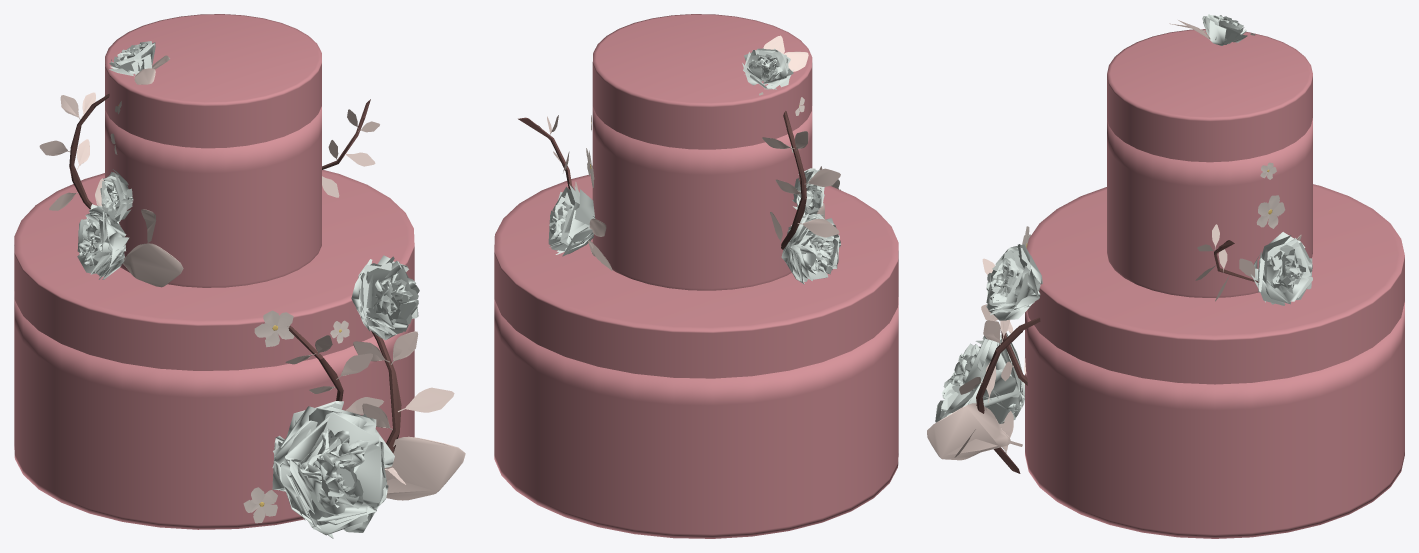
File: 2-tier-blush-roses-none.glb
3 views of the same model, side by side, from view 1: azimuth 30°, elevation 25°; view 2: azimuth 150°, elevation 25°; view 3: azimuth 270°, elevation 25° (orthographic). The views are drawn at different scales.
Parts seen in each view (by area): view 1: Cylinder.023, Cylinder.013, grid.025, grid.024, Plane.049, Plane.059, grid.026, Plane.056, Plane.058, Plane.052, Plane.045, grid.027 (+3 smaller); view 2: Cylinder.023, Cylinder.013, grid.026, Plane.056, grid.028, grid.014, grid.027, Plane.045; view 3: Cylinder.023, Cylinder.013, grid.025, grid.028, Plane.049, grid.024, Plane.059, Plane.045, grid.014, Plane.058, Sphere.032.
Boxes of the visible parts, <box> form: Cylinder.023: <box>14,170,414,529</box>; Cylinder.013: <box>105,14,321,287</box>; grid.025: <box>272,401,394,538</box>; grid.024: <box>351,255,419,340</box>; Plane.049: <box>384,436,465,500</box>; Plane.059: <box>353,331,454,484</box>; grid.026: <box>77,204,129,279</box>; Plane.056: <box>39,92,109,210</box>; Plane.058: <box>285,325,383,414</box>; Plane.052: <box>122,243,183,287</box>; Plane.045: <box>322,99,379,197</box>; grid.027: <box>100,169,133,223</box>; Cylinder.023: <box>494,174,898,538</box>; Cylinder.013: <box>592,14,812,290</box>; grid.026: <box>781,213,841,284</box>; Plane.056: <box>762,111,840,249</box>; grid.028: <box>548,184,595,256</box>; grid.014: <box>742,48,793,89</box>; grid.027: <box>792,168,824,219</box>; Plane.045: <box>518,115,578,190</box>; Cylinder.023: <box>1025,184,1404,538</box>; Cylinder.013: <box>1107,29,1312,297</box>; grid.025: <box>935,328,1024,423</box>; grid.028: <box>1251,232,1312,305</box>; Plane.049: <box>927,403,1022,460</box>; grid.024: <box>986,244,1042,320</box>; Plane.059: <box>954,317,1040,473</box>; Plane.045: <box>1195,224,1259,301</box>; grid.014: <box>1202,14,1247,45</box>; Plane.058: <box>981,258,1027,385</box>; Sphere.032: <box>1256,195,1285,228</box>.
Bounding box in the file's own units: 3.4 × 3.99 × 4.11.
